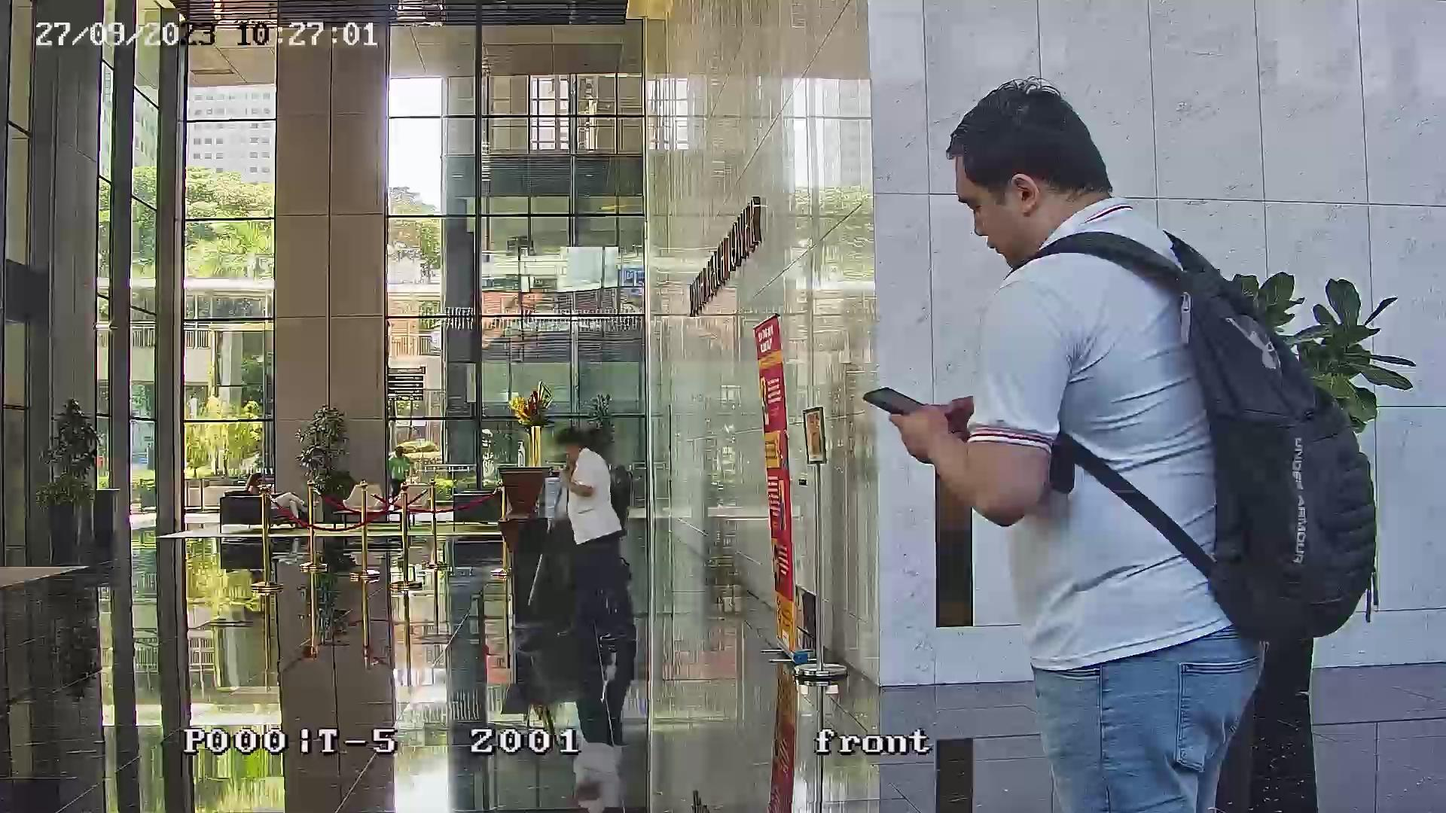person: (884, 77, 1338, 802), (549, 420, 639, 746), (246, 473, 316, 528), (388, 446, 406, 509)
